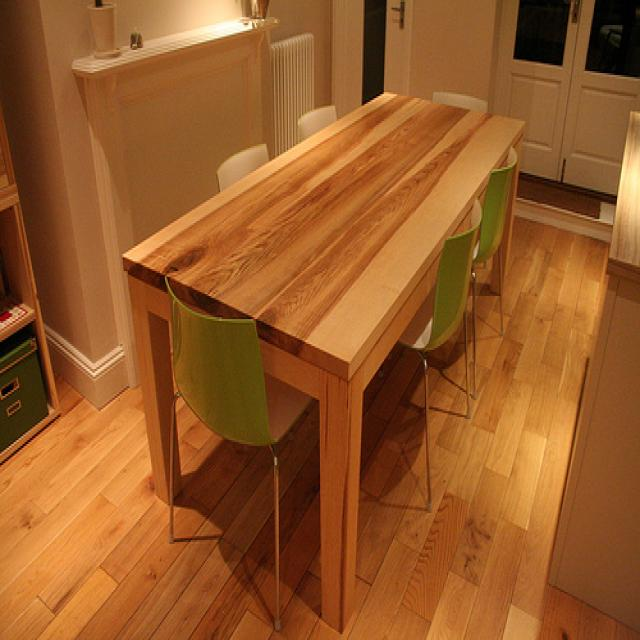table: (123, 88, 527, 636)
